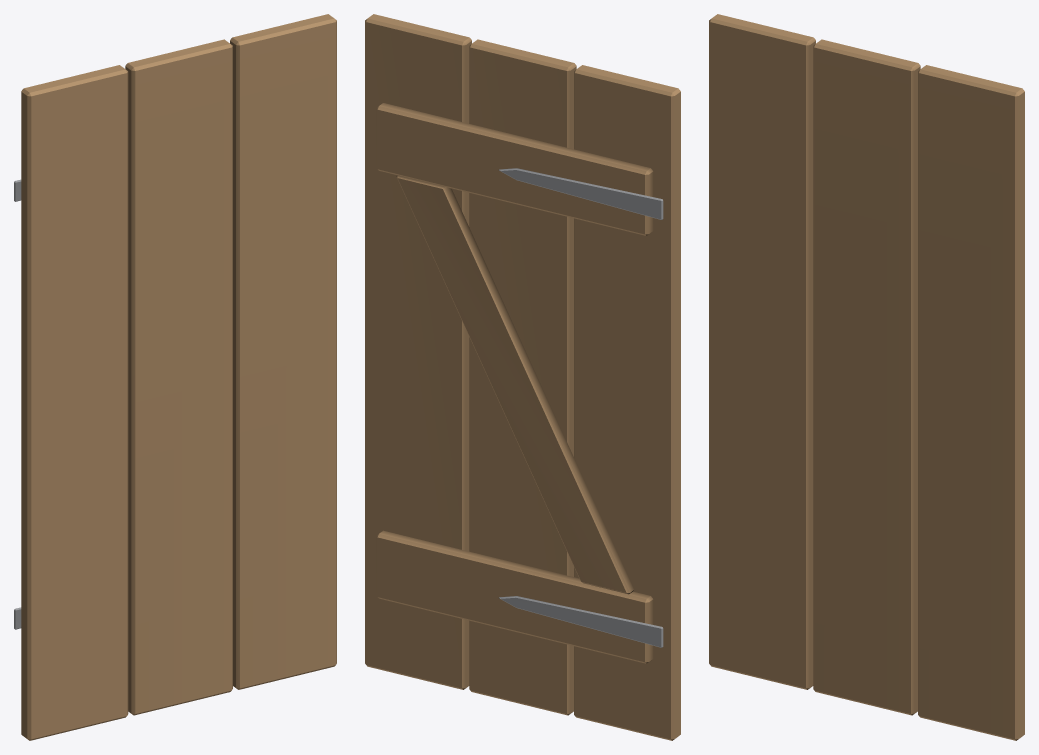
Rendered from shutter.glb.
3 renders of one model, left to right at view 1: azimuth 30°, elevation 25°; view 2: azimuth 150°, elevation 25°; view 3: azimuth 330°, elevation 25°, orthographic.
Visible parts, largest first — view 1: PART; view 2: PART; view 3: PART.
Boxes of the visible parts, bbox=[...] form: PART: bbox=[14, 14, 336, 740]; PART: bbox=[365, 14, 680, 740]; PART: bbox=[709, 14, 1024, 740].
Bounding box in the file's own units: 0.5 × 1 × 0.0495.
